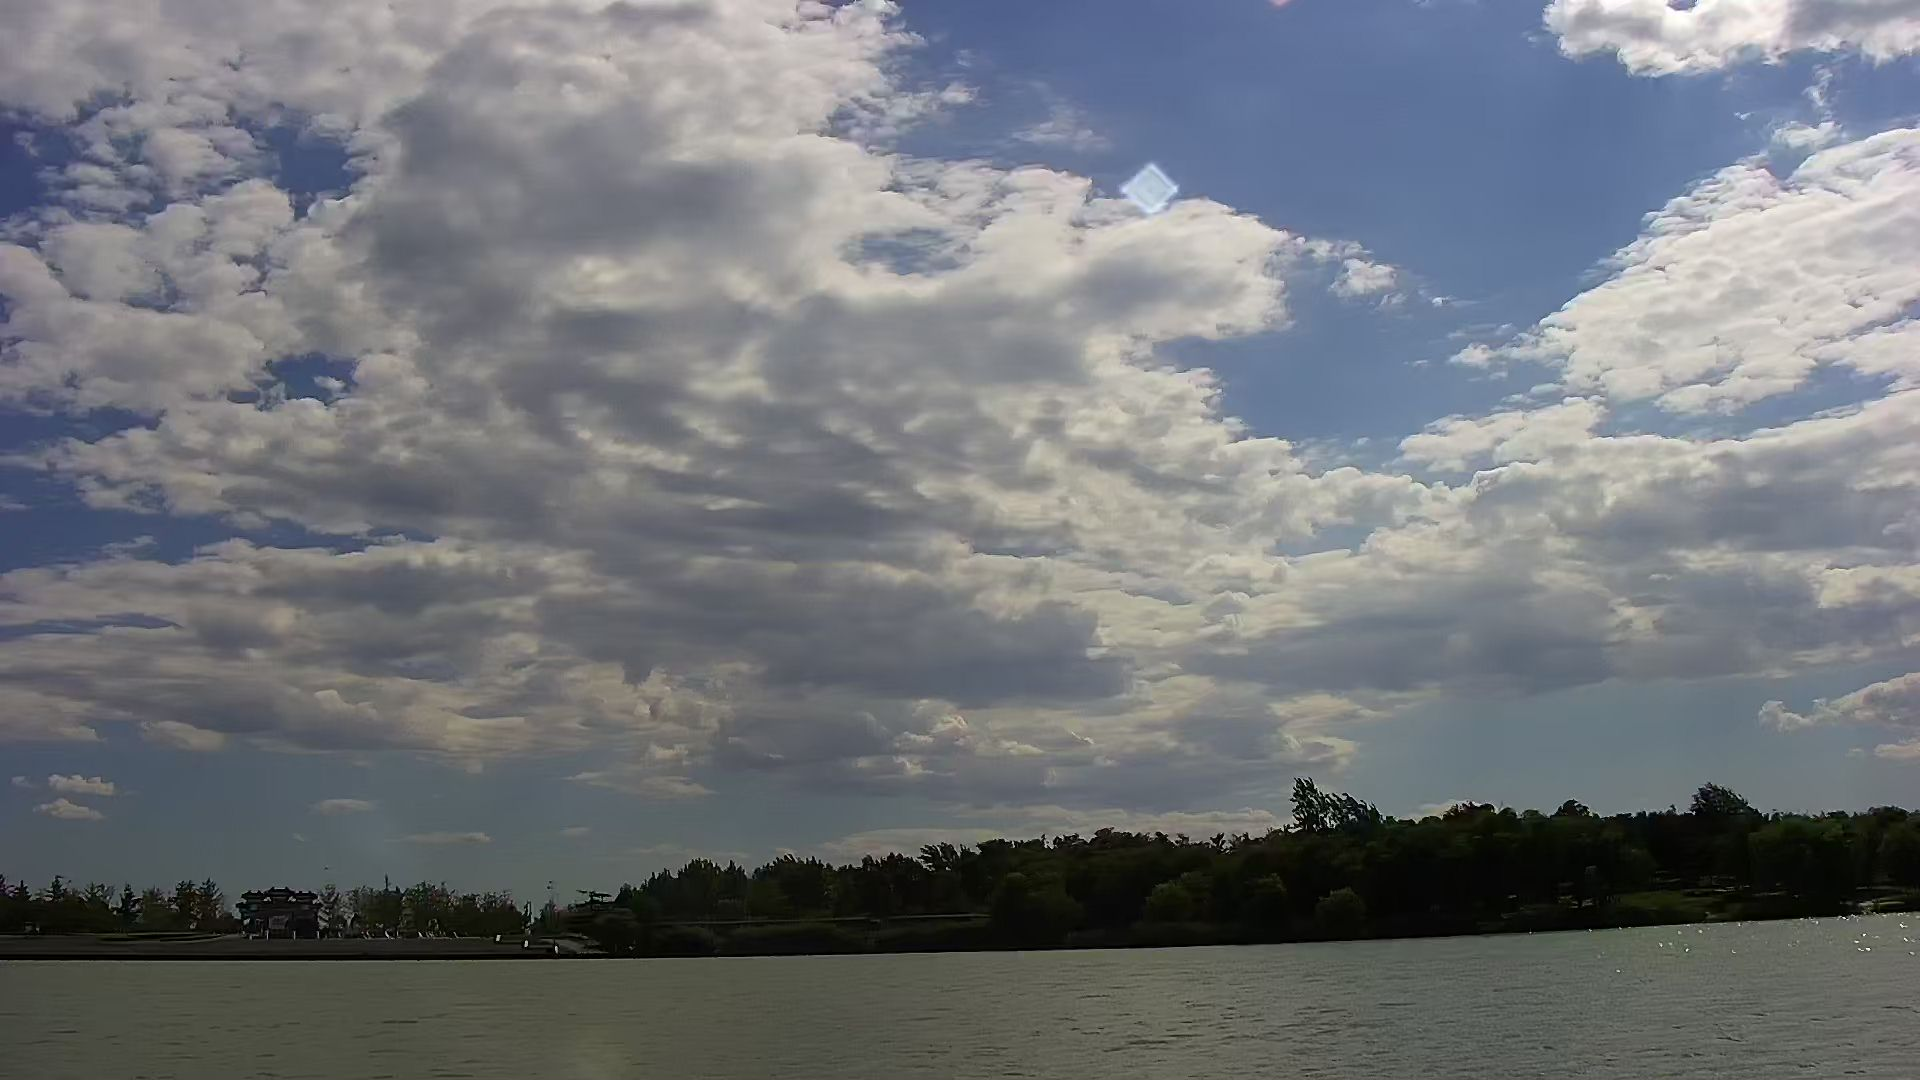harbor: (61, 924, 618, 965)
